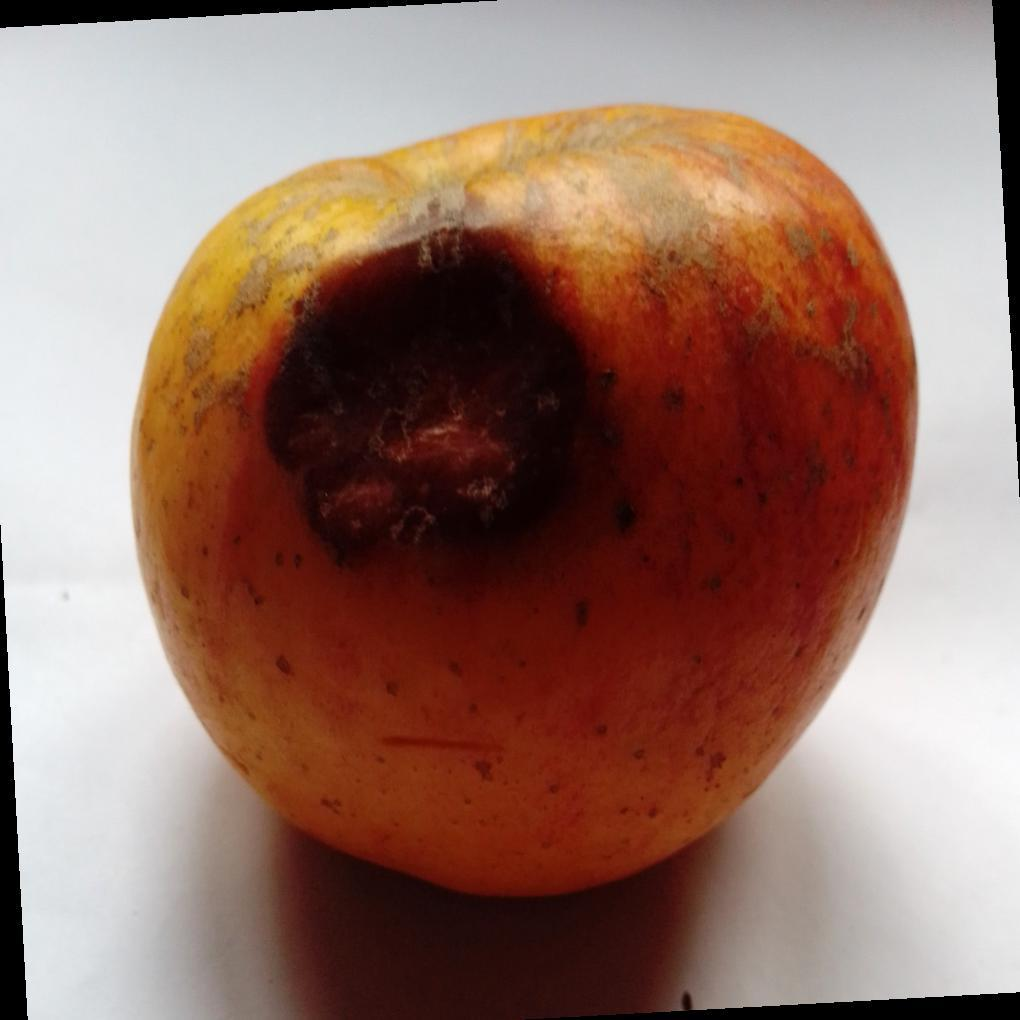FreshOrange: (129, 101, 923, 904)
